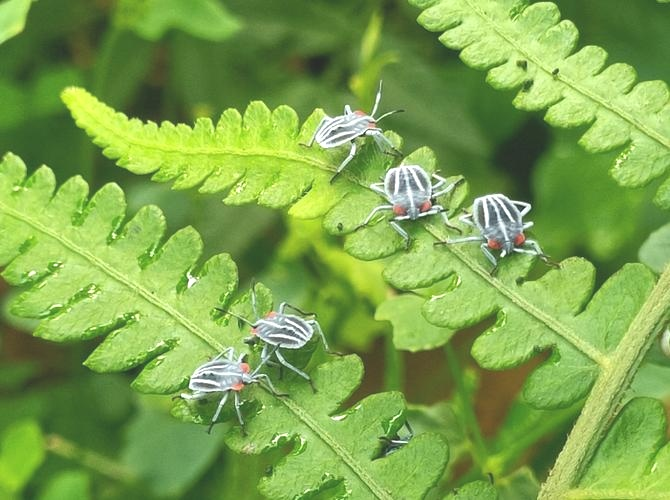Stink_Bug: (245, 282, 337, 354), (306, 89, 391, 147), (176, 349, 254, 410), (469, 195, 533, 259), (383, 163, 441, 216)
